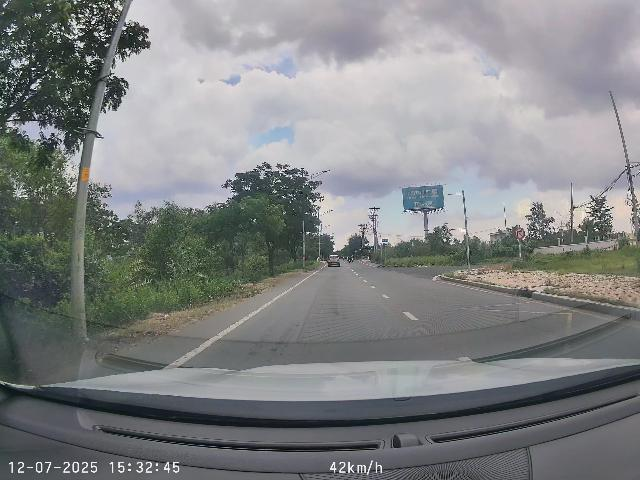123b-cam-re-phai: (514, 228, 525, 239)
